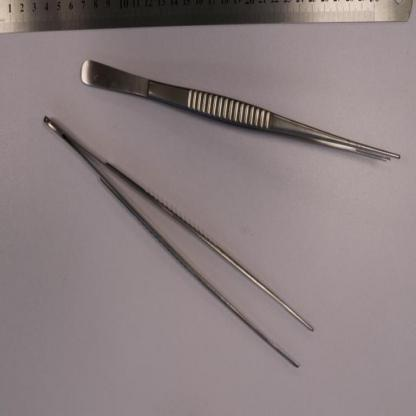DeBakey Dissector: (44, 114, 313, 369), (81, 59, 400, 160)
